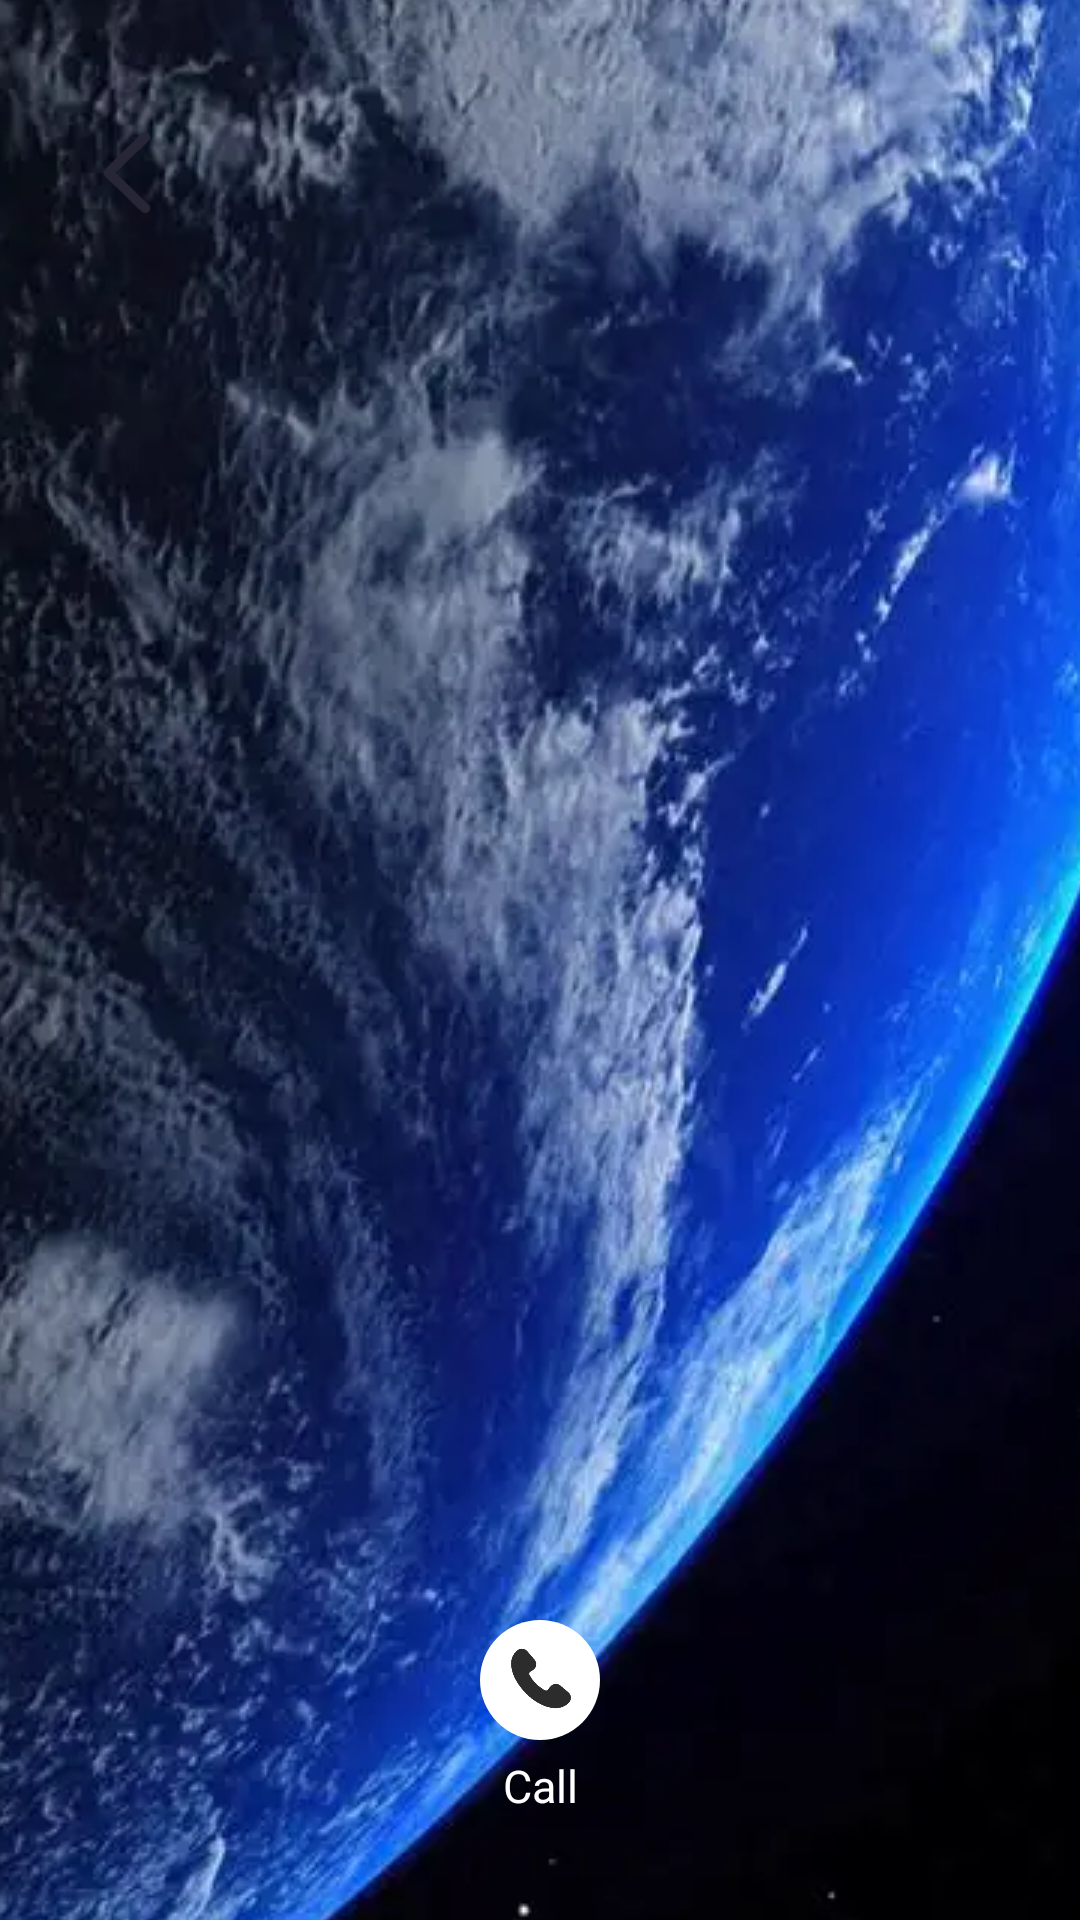

Where icons sit on this 1080x1920 app screen, as (x1, y1, x2, y2):
navtalk back: (77, 120, 180, 225)
